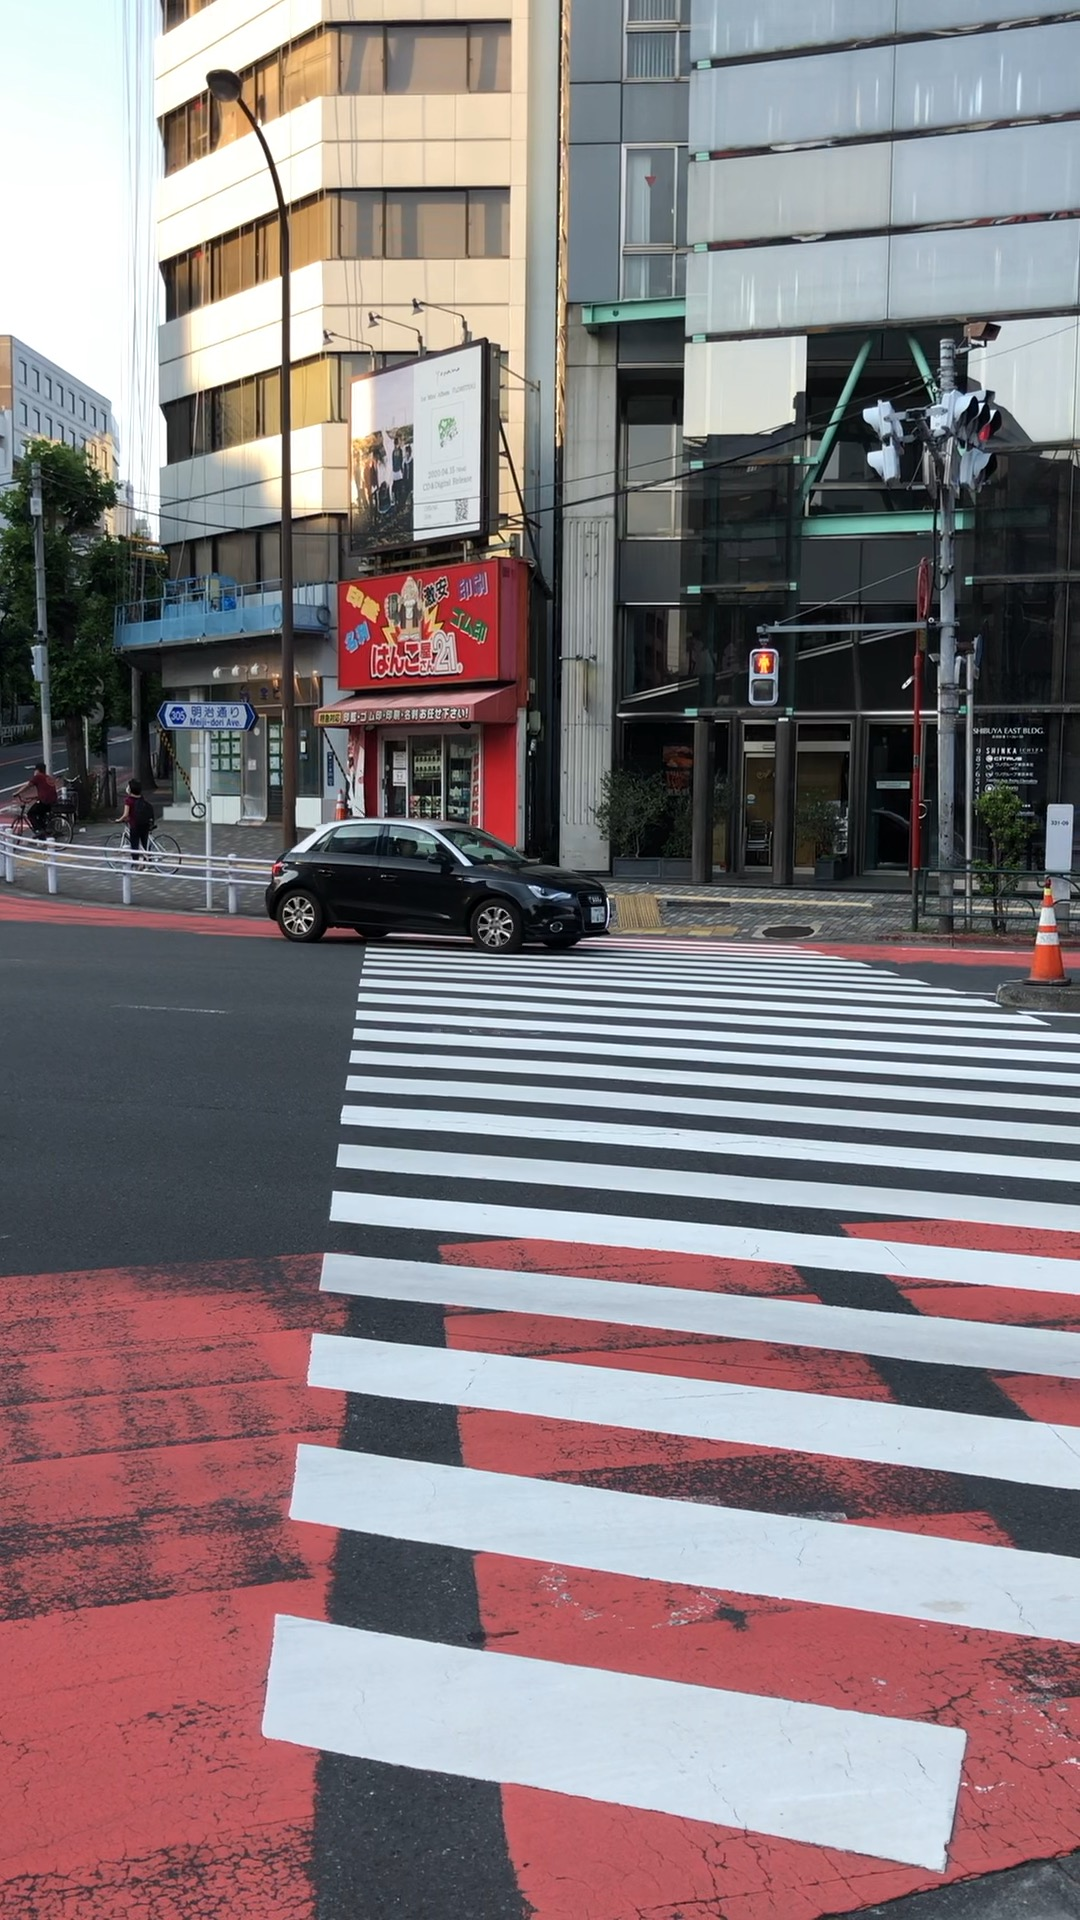red: (746, 647, 779, 705)
